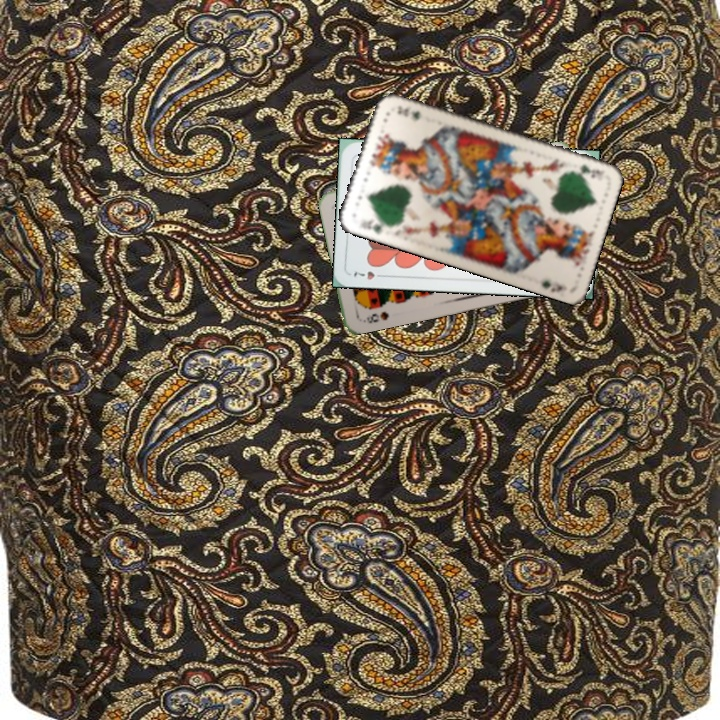GK: (567, 161, 607, 182), (357, 215, 393, 237)
H7: (350, 267, 388, 282)
S8: (359, 307, 391, 326)
